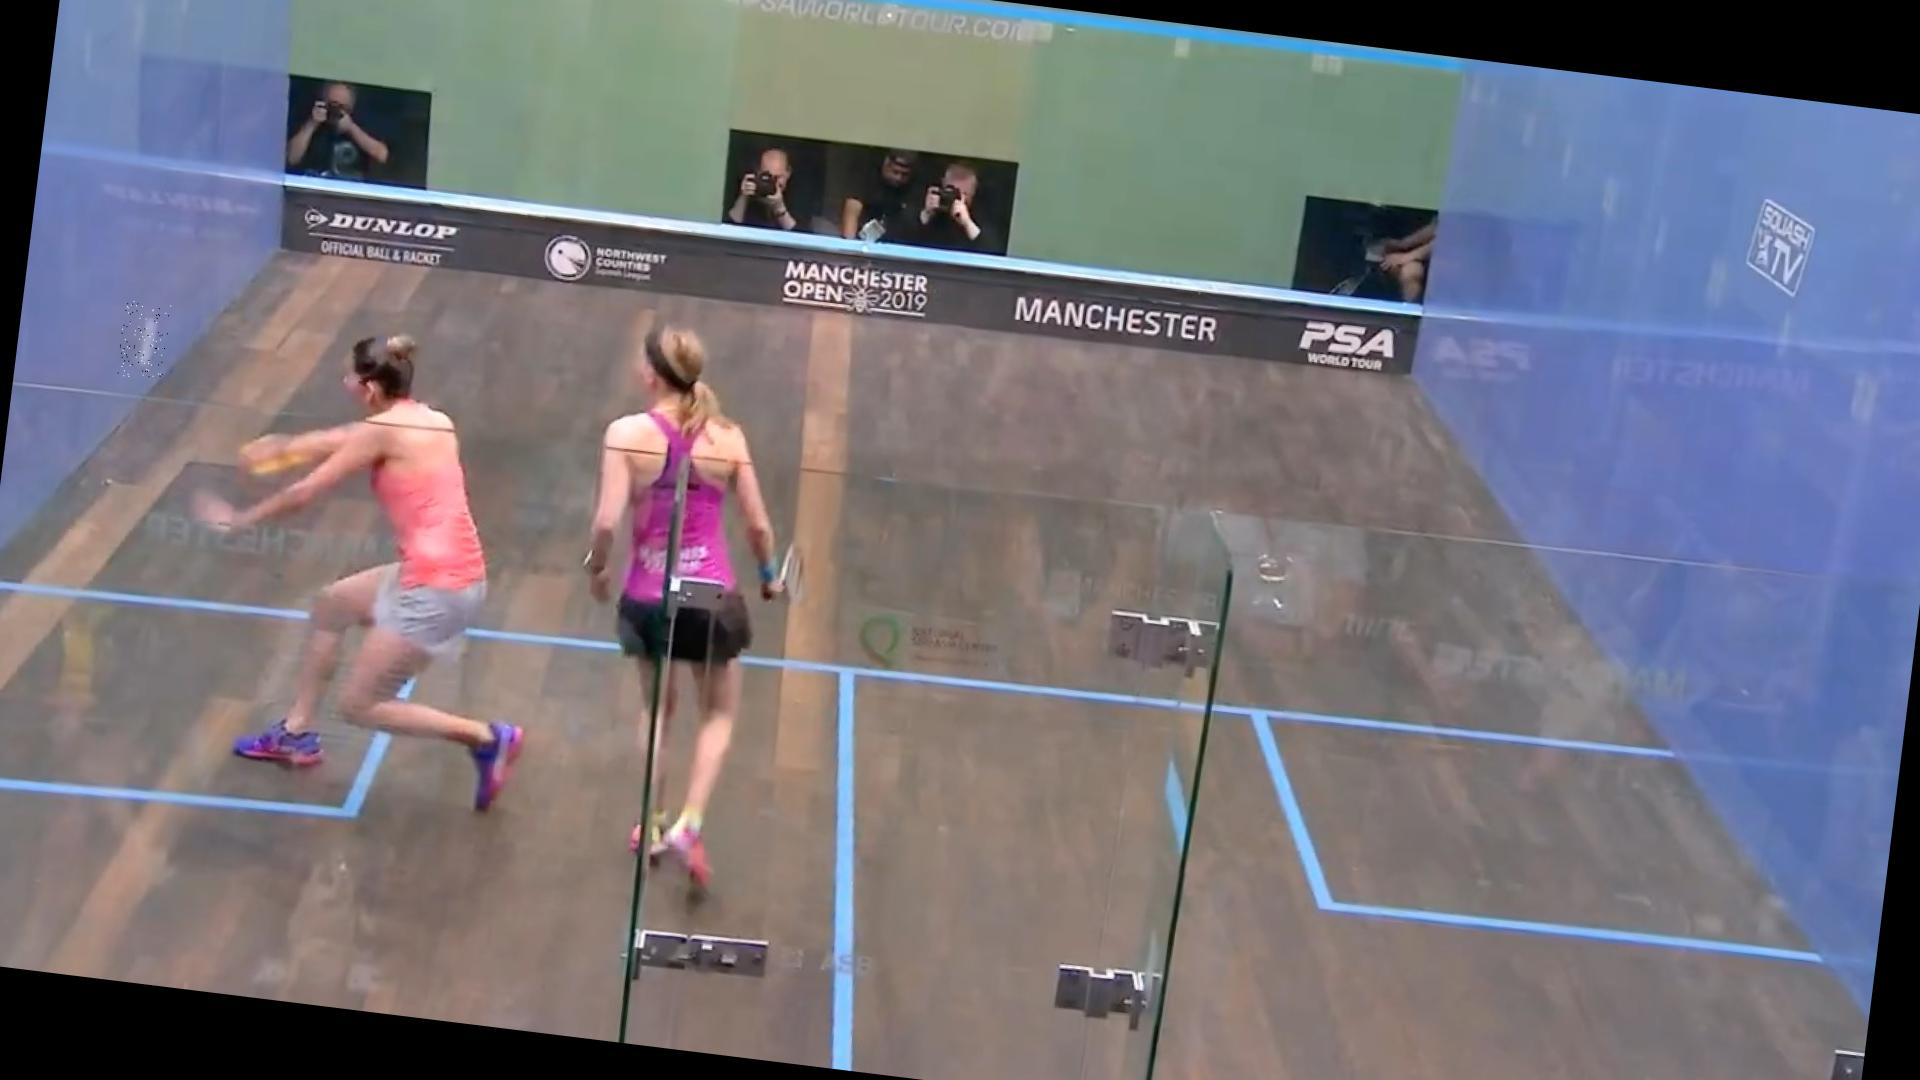Squash-Ball: (116, 301, 170, 381)
